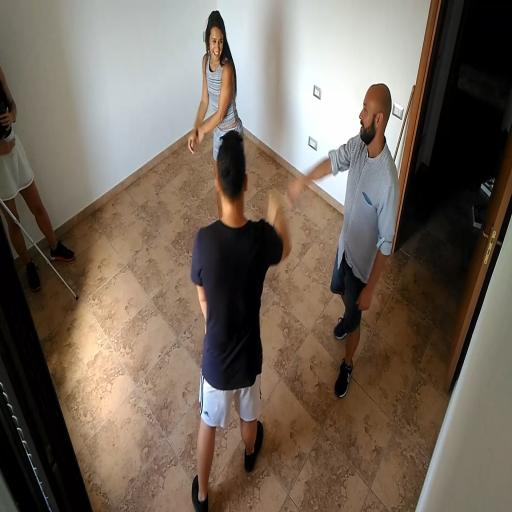nao-violencia: (175, 65, 408, 511)
